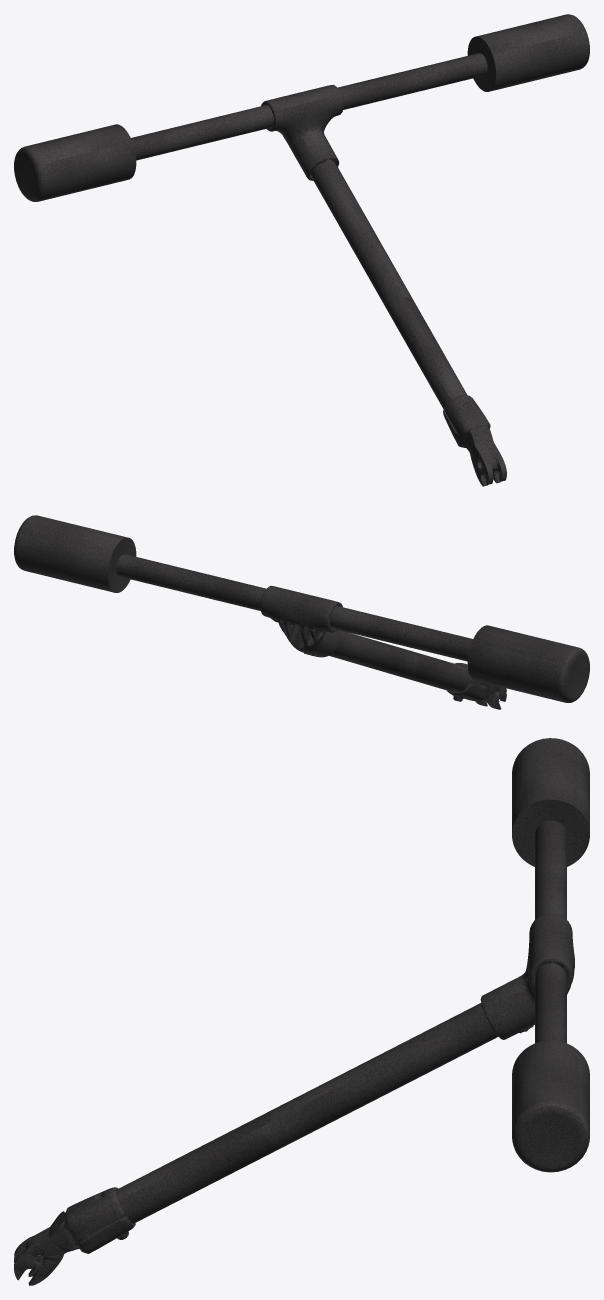
The model's file is leg1_remeshed_v3.obj.
3 renders of one model, top to bottom at view 1: azimuth 30°, elevation 25°; view 2: azimuth 150°, elevation 25°; view 3: azimuth 270°, elevation 25°, orthographic. The views are drawn at different scales.
Parts seen in each view (by area): view 1: gear; view 2: gear; view 3: gear.
Part boxes in pixels (x1,y1,x2,y2): gear: (14, 14, 589, 486); gear: (14, 515, 589, 709); gear: (14, 738, 589, 1285).
Size of the model in its own units: 0.275 by 0.125 by 0.1809.
Materials: 1 (1 with a texture image).
